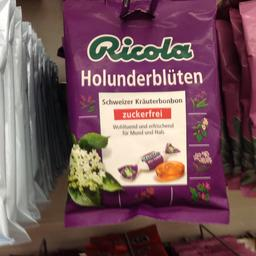candy: (62, 0, 231, 226)
